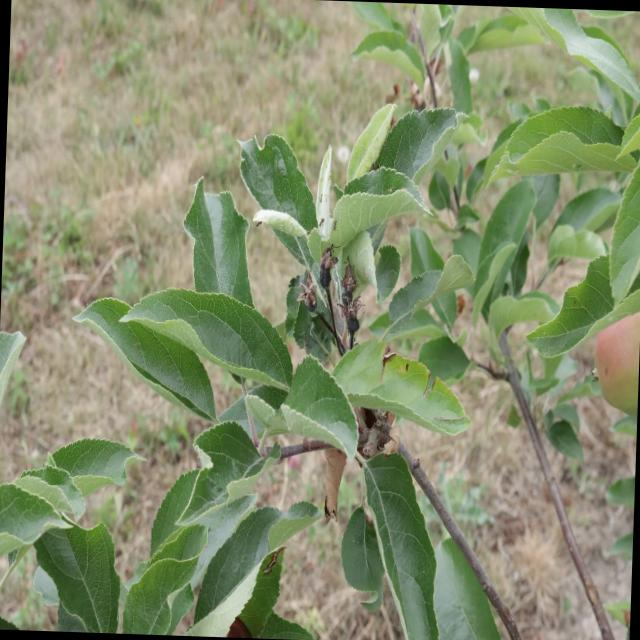-FireBlight-: (314, 444, 352, 522)
